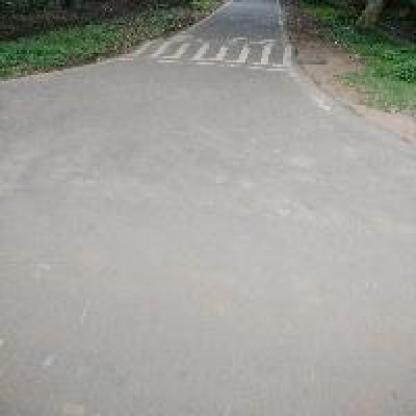Speed Bump: (104, 33, 293, 75)
